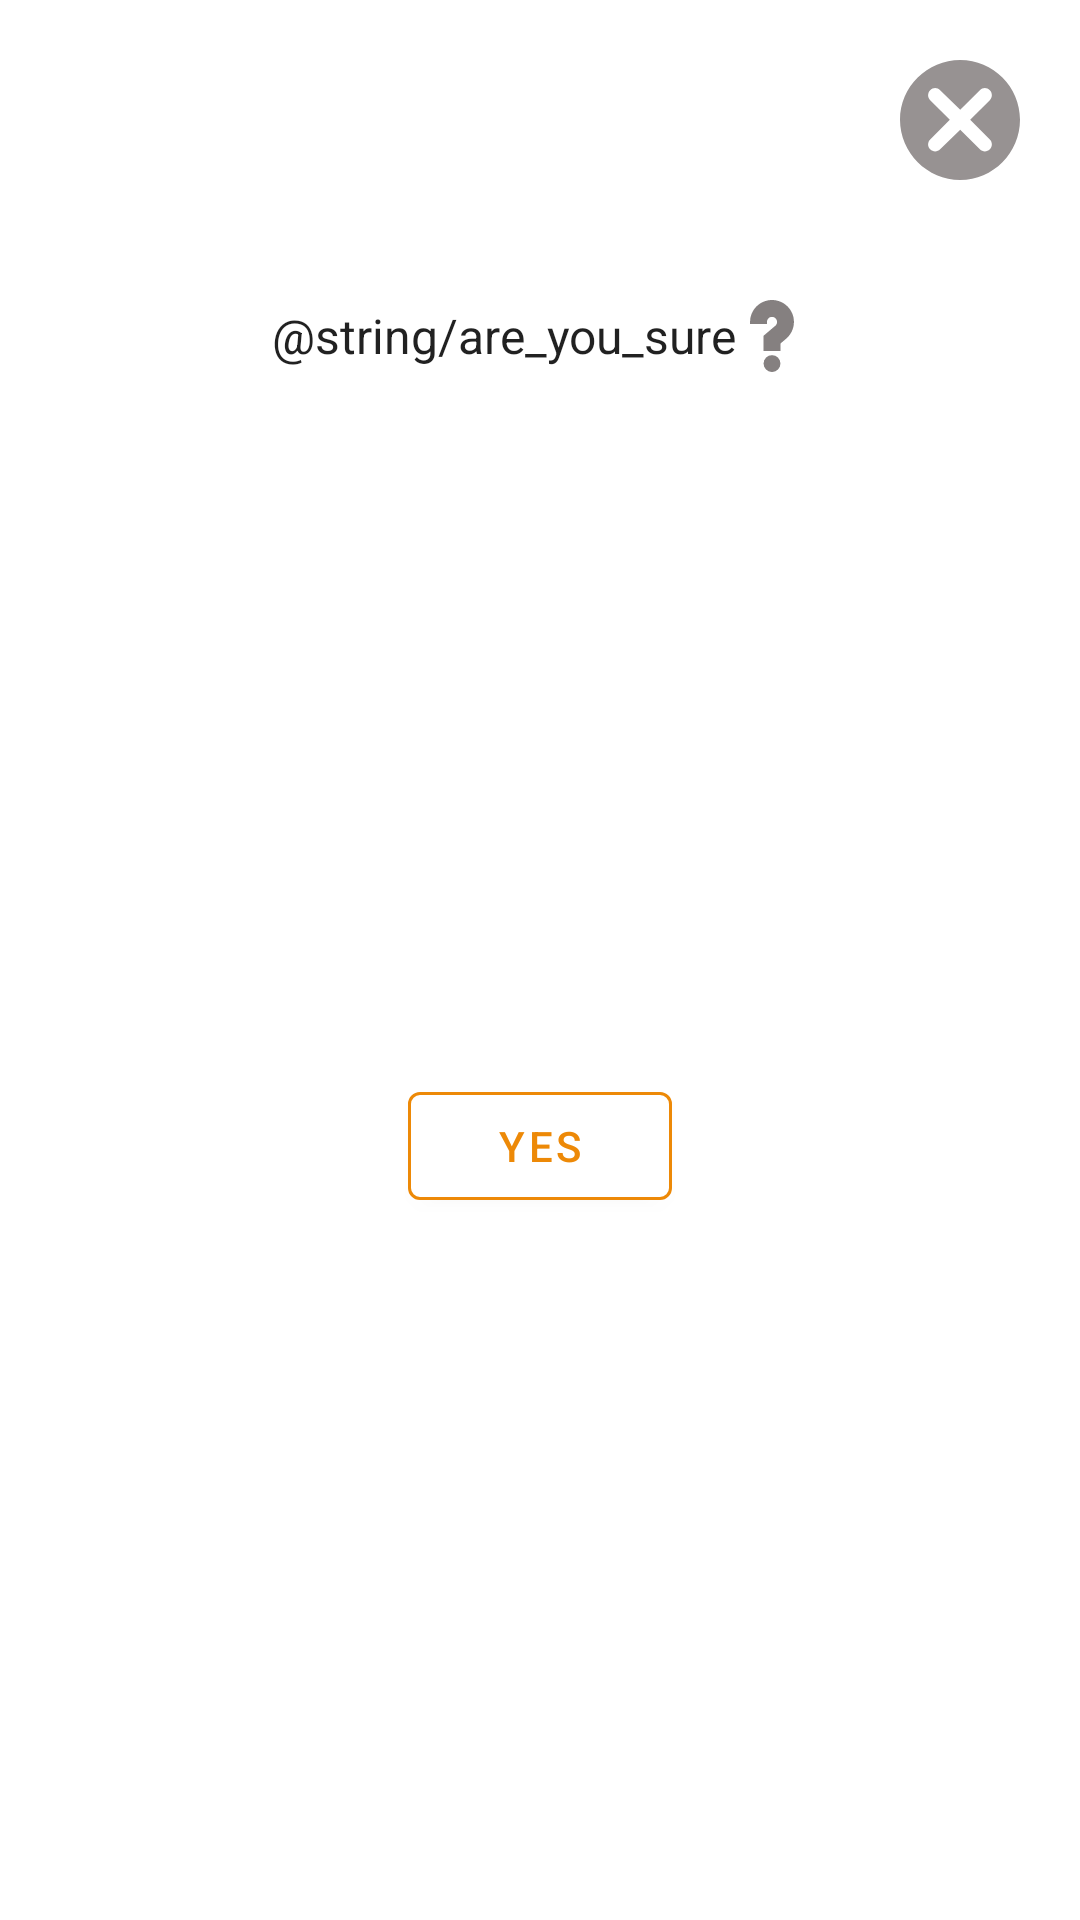

Where to tap for icons on this 1080x1920 app screen, as (x=x, y=y):
close: (x=960, y=120)
